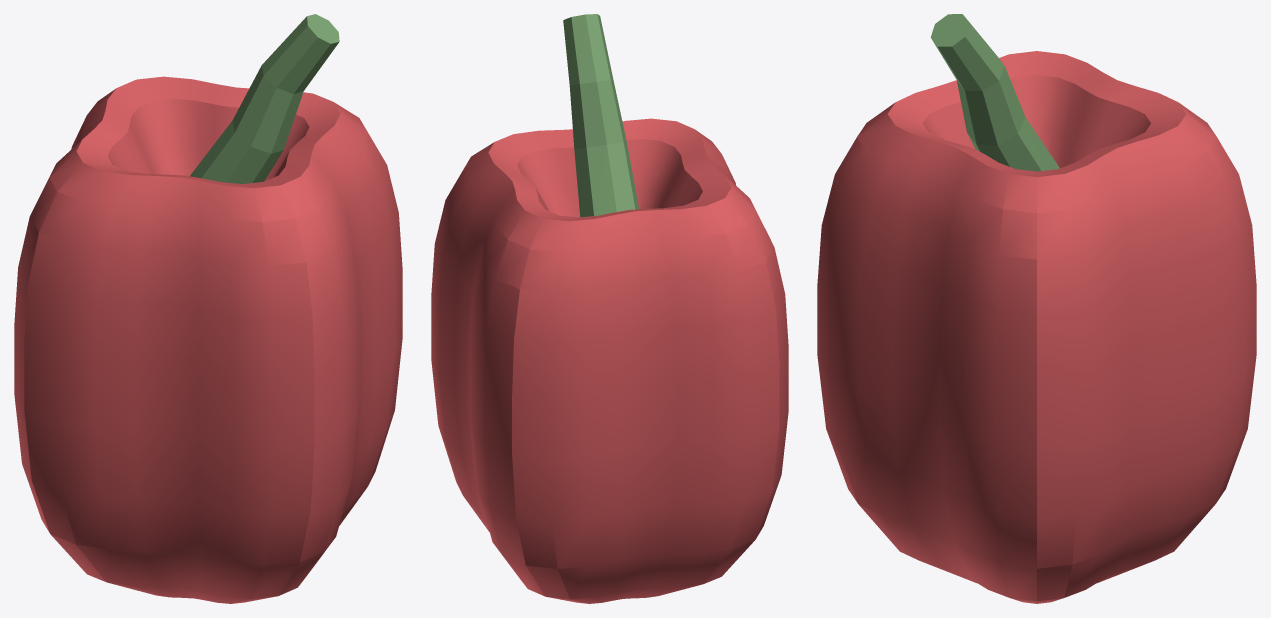
The model's file is fresh-produce-and-groceries-bell-pepper-red-63b1d5fa__24376.glb.
The picture shows the model from 3 angles, left to right: view 1: azimuth 30°, elevation 25°; view 2: azimuth 150°, elevation 25°; view 3: azimuth 270°, elevation 25°; orthographic projection. The views are drawn at different scales.
Parts seen in each view (by area): view 1: bell-pepper-red; view 2: bell-pepper-red; view 3: bell-pepper-red.
Part boxes in pixels (x1,y1,x2,y2): bell-pepper-red: (14, 14, 402, 603); bell-pepper-red: (431, 14, 788, 603); bell-pepper-red: (817, 14, 1256, 603).
Size of the model in its own units: 0.086 by 0.1274 by 0.086.
